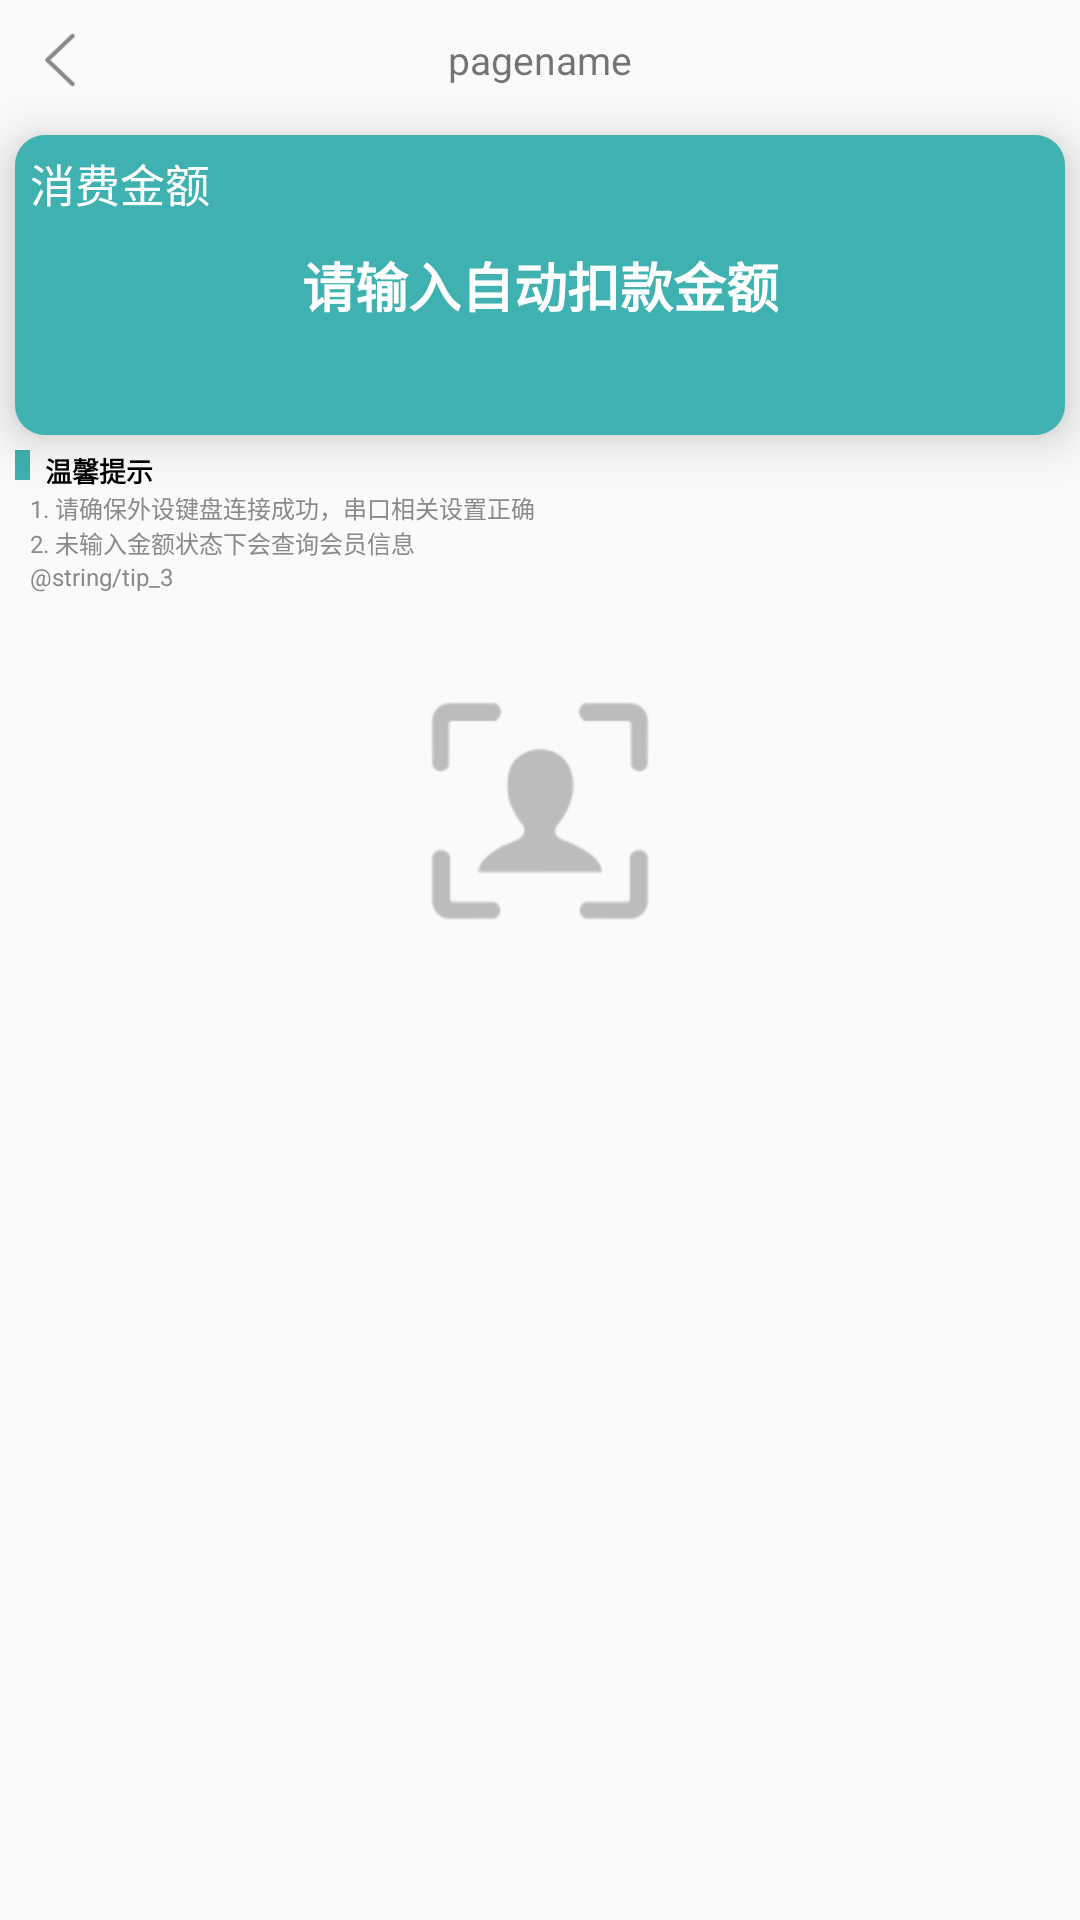

Screen size 1080 x 1920. Icon name, then its box in pixels as Rect(x1, y1, x2, y2):
back: Rect(45, 34, 75, 86)
facepay: Rect(432, 703, 648, 919)
